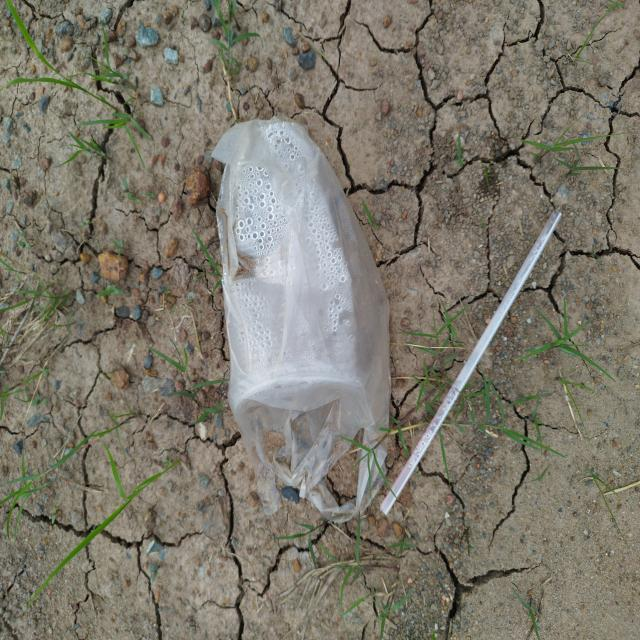drinking straw: (380, 211, 562, 514)
trash bag: (212, 117, 390, 524)
